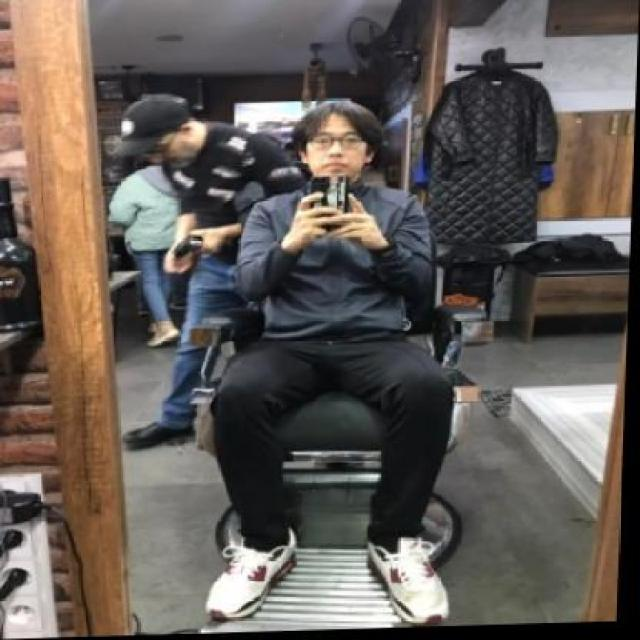hat: (105, 88, 212, 170)
